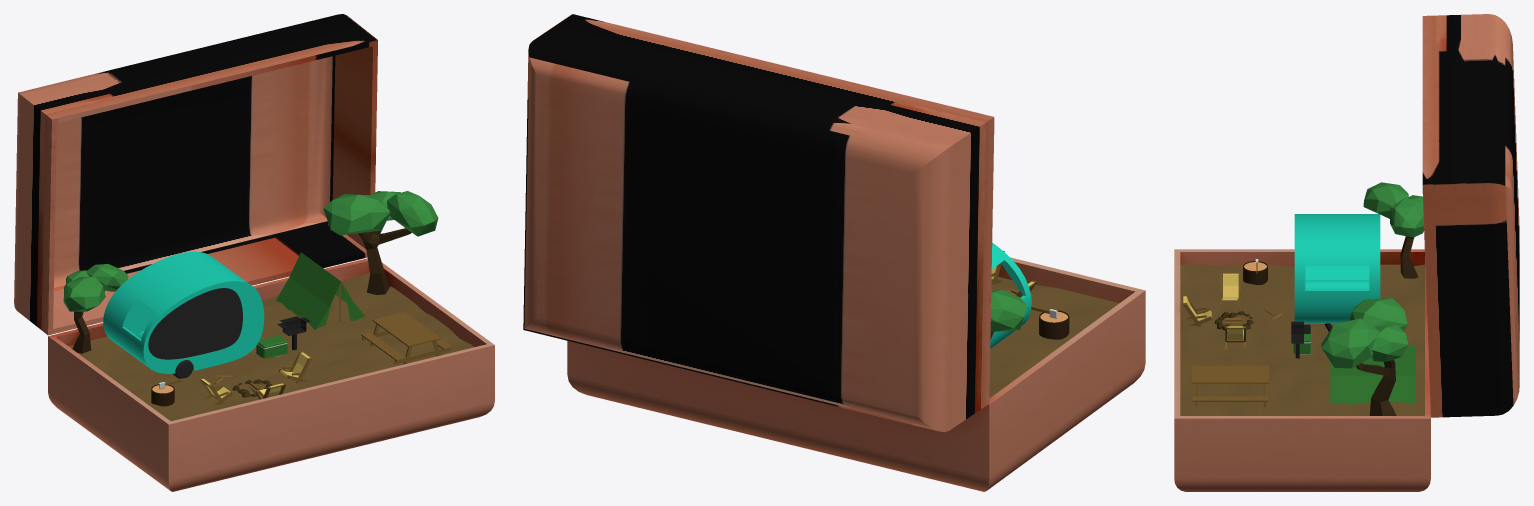
The picture shows the model from 3 angles, left to right: view 1: azimuth 30°, elevation 25°; view 2: azimuth 150°, elevation 25°; view 3: azimuth 270°, elevation 25°; orthographic projection. The views are drawn at different scales.
Visible parts, largest first — view 1: Suitcase.001, Suitcase, Ground.001, Trailer.001, Plane.019, Sphere.014, Sphere.015, Plane.013, Plane, Sphere.017, Sphere.018, Cube.013 (+1 smaller); view 2: Suitcase.001, Suitcase, Ground.001, Sphere.017, Trailer.001, Cylinder; view 3: Suitcase.001, Suitcase, Ground.001, Trailer.001, Plane.019, Sphere.015, Plane, Sphere.014, Plane.013, Sphere.018, Sphere.013, Sphere.017 (+4 smaller).
Boxes of the visible parts, bbox=[...] form: Suitcase.001: bbox=[14, 14, 377, 335]; Suitcase: bbox=[48, 258, 494, 491]; Ground.001: bbox=[68, 272, 474, 421]; Trailer.001: bbox=[103, 251, 264, 373]; Plane.019: bbox=[276, 252, 365, 329]; Sphere.014: bbox=[323, 194, 389, 235]; Sphere.015: bbox=[387, 191, 438, 236]; Plane.013: bbox=[358, 228, 411, 294]; Plane: bbox=[372, 312, 440, 346]; Sphere.017: bbox=[63, 276, 105, 311]; Sphere.018: bbox=[86, 264, 128, 291]; Cube.013: bbox=[256, 335, 287, 358]; Suitcase.001: bbox=[523, 14, 994, 432]; Suitcase: bbox=[567, 257, 1145, 491]; Ground.001: bbox=[989, 276, 1119, 398]; Sphere.017: bbox=[990, 290, 1026, 332]; Trailer.001: bbox=[990, 243, 1031, 348]; Cylinder: bbox=[1039, 310, 1069, 339]; Suitcase.001: bbox=[1422, 14, 1519, 417]; Suitcase: bbox=[1174, 249, 1430, 491]; Ground.001: bbox=[1180, 264, 1424, 415]; Trailer.001: bbox=[1294, 214, 1380, 323]; Plane.019: bbox=[1330, 345, 1415, 404]; Sphere.015: bbox=[1321, 318, 1379, 368]; Plane: bbox=[1192, 365, 1268, 383]; Sphere.014: bbox=[1349, 298, 1407, 331]; Plane.013: bbox=[1356, 359, 1396, 415]; Sphere.018: bbox=[1390, 198, 1423, 237]; Sphere.013: bbox=[1371, 325, 1408, 361]; Sphere.017: bbox=[1363, 182, 1408, 218].
Bounding box in the file's own units: 10.12 × 8.16 × 8.08.
Materials: 18 (1 with a texture image).
